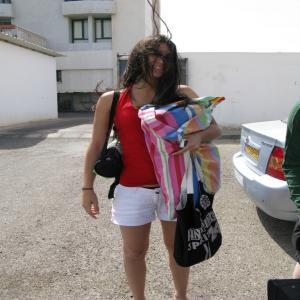Vehicle-registration-plate: (246, 143, 262, 162)
